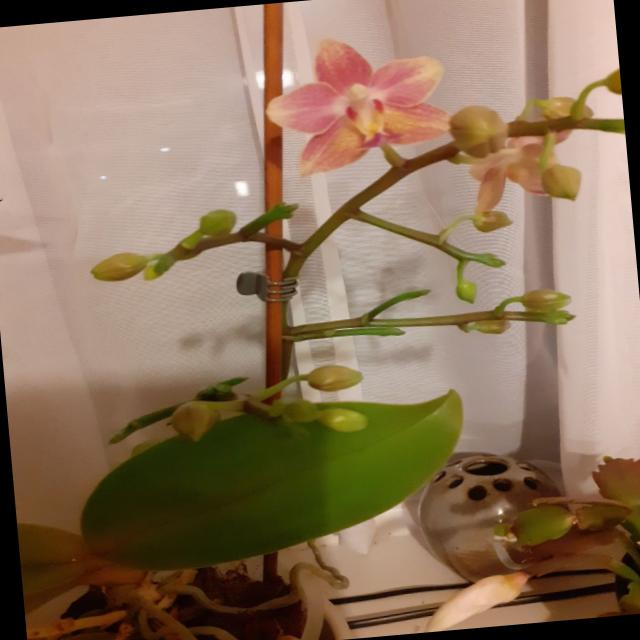flower: (267, 40, 448, 173), (450, 105, 509, 159)
leaf: (80, 393, 459, 570)
